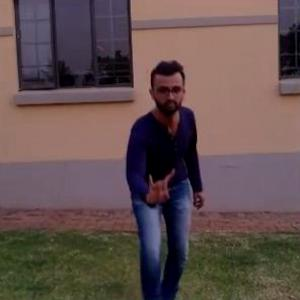takeoff-hand: (143, 162, 176, 212)
